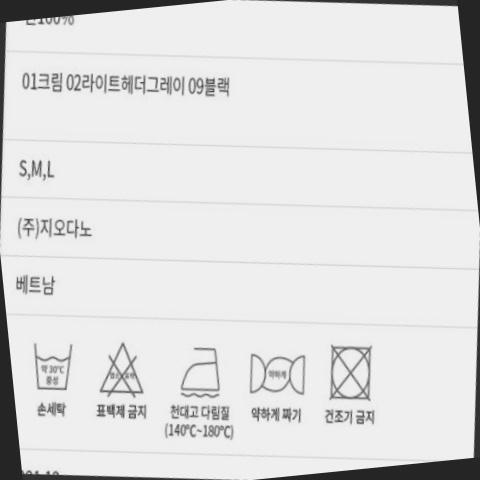30C: (23, 331, 86, 397)
DN_tumble_dry: (316, 333, 386, 410)
iron: (239, 340, 318, 403), (168, 333, 234, 405)
non_chlorine_bleach: (90, 331, 159, 405)
